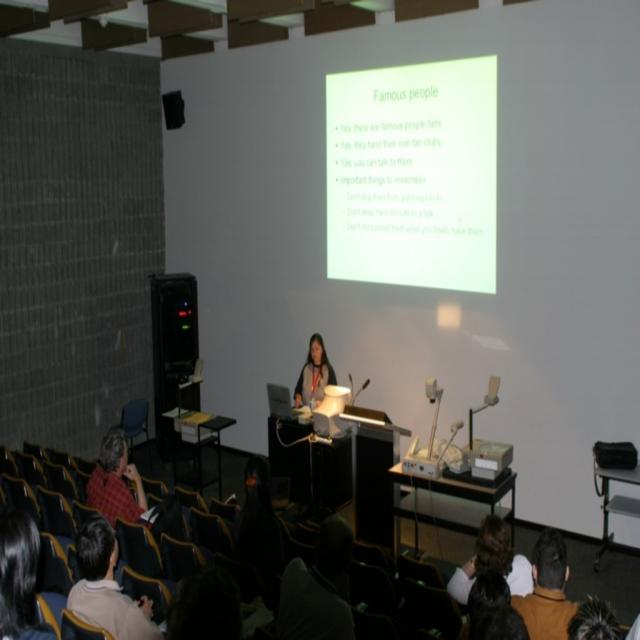chair: (116, 518, 165, 577), (59, 607, 112, 639)
desk: (388, 437, 523, 571)
person: (66, 520, 165, 638), (276, 515, 356, 637), (221, 455, 286, 602), (446, 513, 530, 609), (510, 529, 581, 639), (0, 508, 60, 638), (86, 430, 150, 530), (165, 565, 242, 638), (292, 333, 337, 409)
